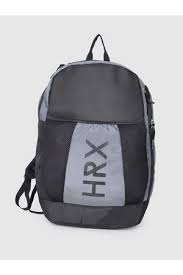backpack: (15, 33, 156, 229)
